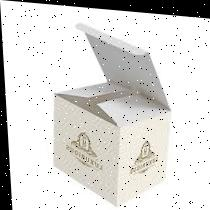cube: (44, 76, 175, 207)
